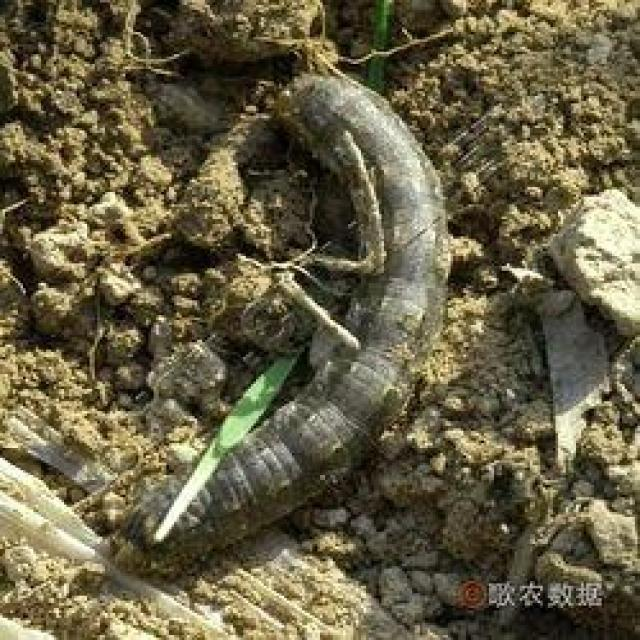black cutworm: (128, 64, 478, 578)
